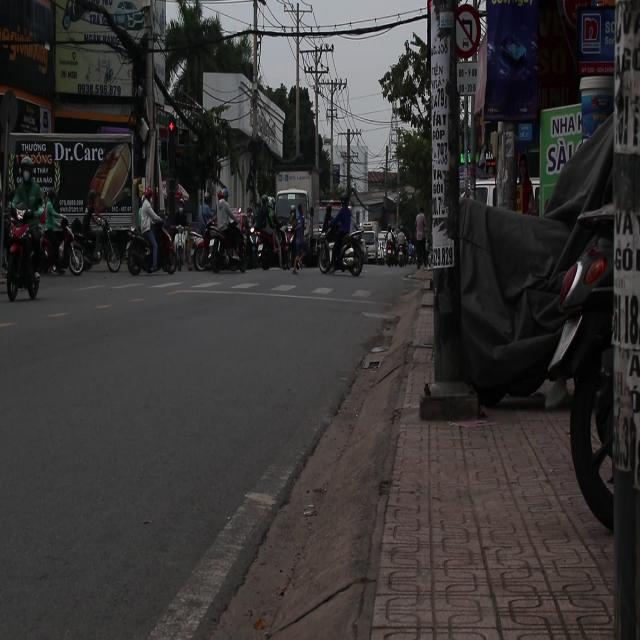car: (359, 230, 380, 261)
motorbike: (4, 213, 46, 300), (317, 223, 366, 277), (46, 219, 88, 276), (194, 223, 236, 273), (125, 228, 157, 277)
